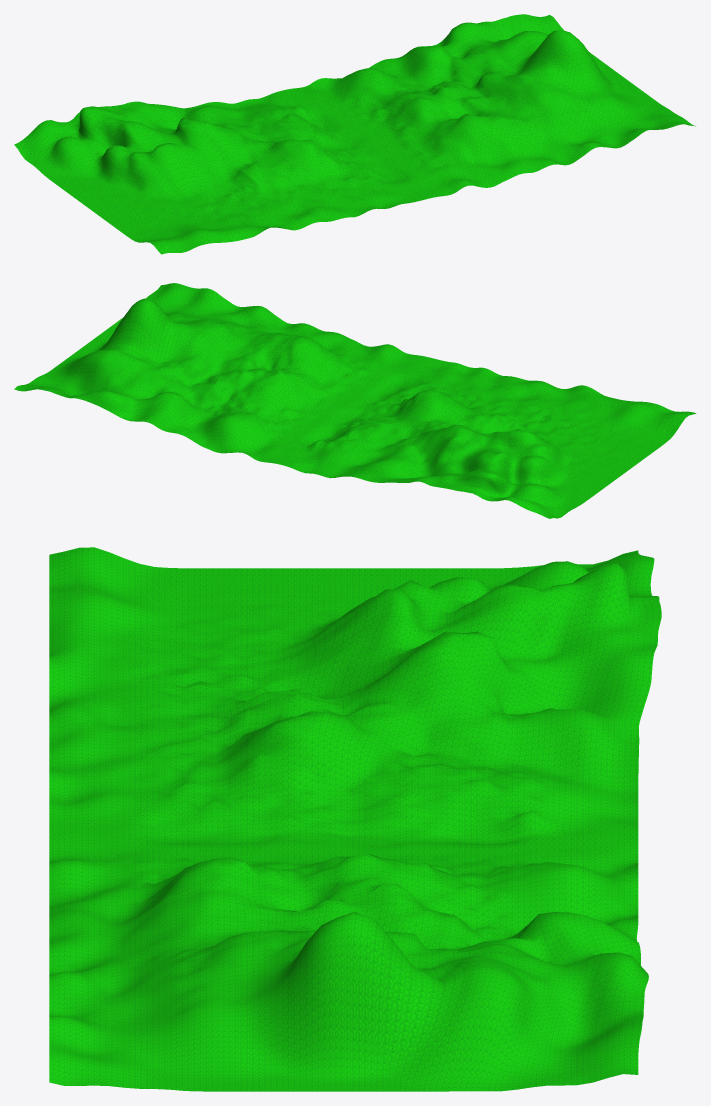
Rendered from Terrain_title1.obj.
3 views of the same model, one above another, from view 1: azimuth 30°, elevation 25°; view 2: azimuth 150°, elevation 25°; view 3: azimuth 270°, elevation 25° (orthographic). The views are drawn at different scales.
Parts seen in each view (by area): view 1: Terrain_title1; view 2: Terrain_title1; view 3: Terrain_title1.
Boxes of the visible parts, x1,y1,x2,y2 form: Terrain_title1: [14, 14, 695, 254]; Terrain_title1: [14, 283, 696, 518]; Terrain_title1: [49, 547, 661, 1091].
Size of the model in its own units: 2100 by 246 by 1040.
Materials: 1 (1 with a texture image).
